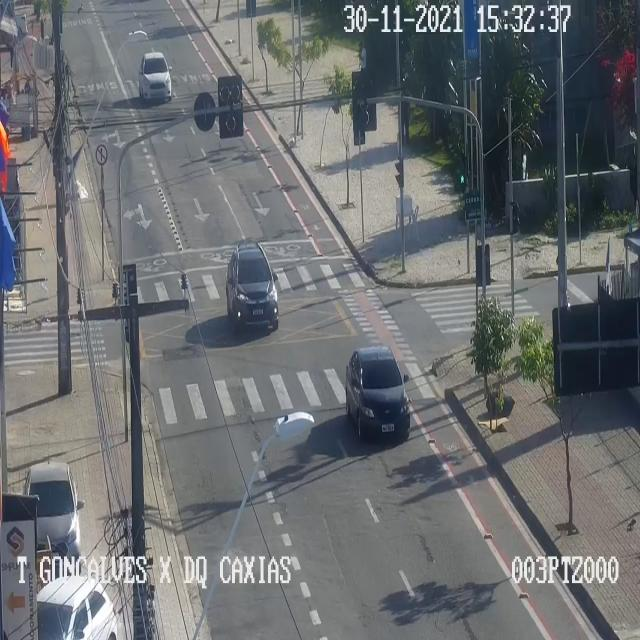Car: (346, 345, 412, 444), (25, 463, 83, 562), (226, 238, 280, 330), (38, 578, 116, 639), (138, 50, 173, 102)
